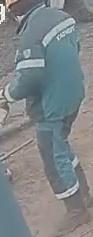gloves: (0, 81, 16, 110)
helmet: (3, 1, 36, 11)
vest: (8, 5, 85, 120)
